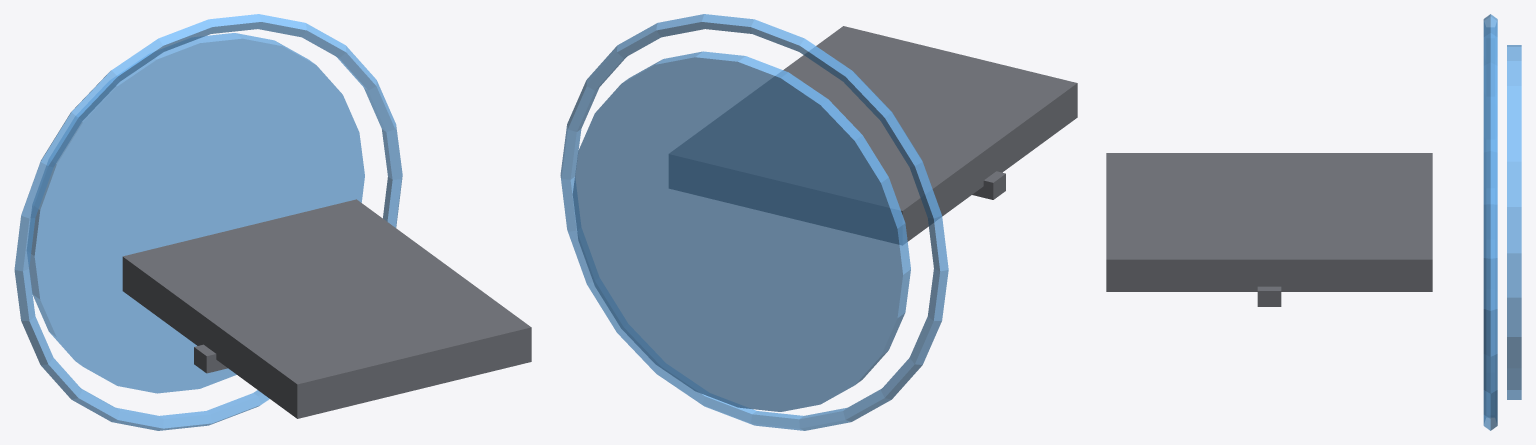
The model's file is shield_pickup_tower_rare.glb.
3 renders of one model, left to right at view 1: azimuth 30°, elevation 25°; view 2: azimuth 150°, elevation 25°; view 3: azimuth 270°, elevation 25°, orthographic. The views are drawn at different scales.
Visible parts, largest first — view 1: rarity_base_disc, shield_face, rarity_orbit_ring, rim; view 2: rarity_base_disc, shield_face, rarity_orbit_ring, rim; view 3: shield_face, rarity_orbit_ring, rarity_base_disc, rim.
Boxes of the visible parts, left/top/right/bottom form: rarity_base_disc: left=27, top=33, right=364, bottom=393; shield_face: left=122, top=199, right=531, bottom=418; rarity_orbit_ring: left=14, top=14, right=402, bottom=430; rim: left=194, top=344, right=227, bottom=373; rarity_base_disc: left=572, top=51, right=910, bottom=411; shield_face: left=669, top=26, right=1077, bottom=244; rarity_orbit_ring: left=560, top=14, right=948, bottom=430; rim: left=972, top=171, right=1005, bottom=199; shield_face: left=1106, top=153, right=1432, bottom=291; rarity_orbit_ring: left=1483, top=14, right=1497, bottom=430; rarity_base_disc: left=1507, top=45, right=1521, bottom=399; rim: left=1257, top=286, right=1281, bottom=306.
Size of the model in its own units: 1.41 by 1.41 by 1.4.
